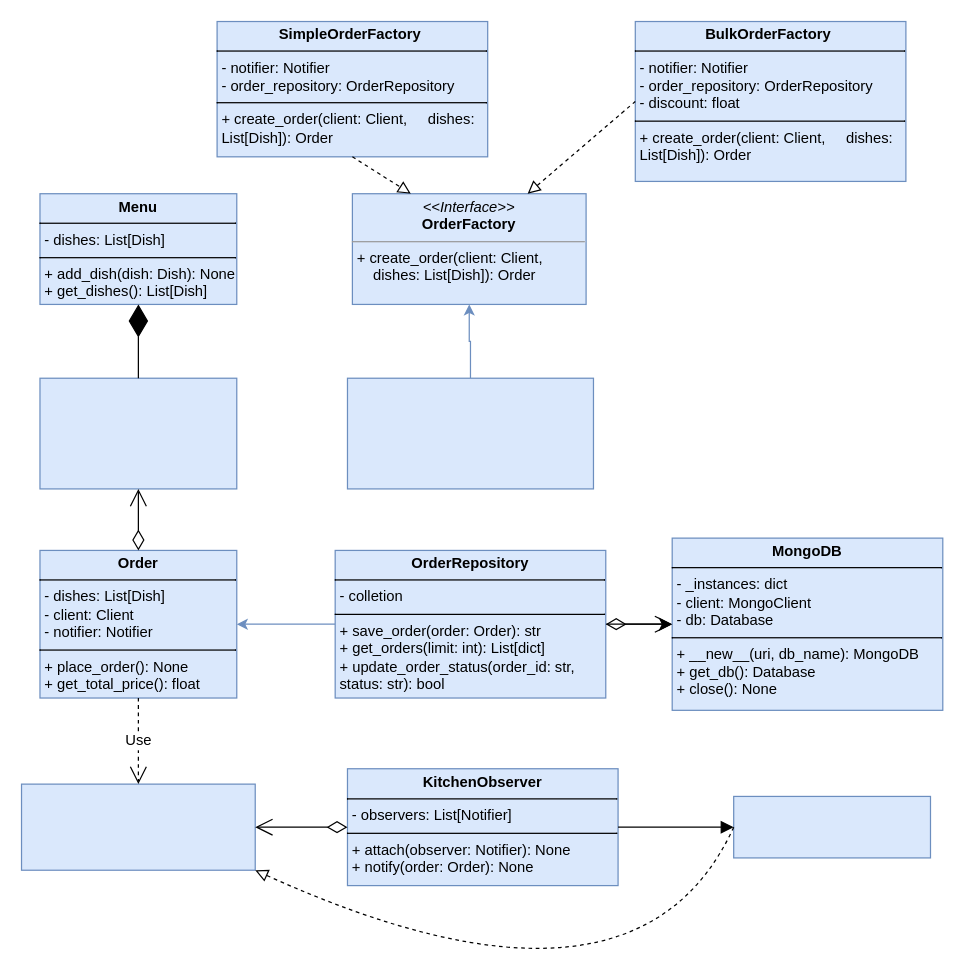
Some shapes in this 964 by 970 pixel diagram are drawn without their labels. The shapes that lost their labels are listed below. From the top down, each one's centre as x and y in pixels, then its label:
the point at 138,433: Dish - name: str - price: float + get_info(): str
the point at 469,433: Client - name: str + make_orderdishes: List[Dish], factory: OrderFactory): Order
the point at 137,826: <<Interface>> Notifier + notify(order: Order): None
the point at 831,826: KitchenNotifier + notify(order: Order): None
